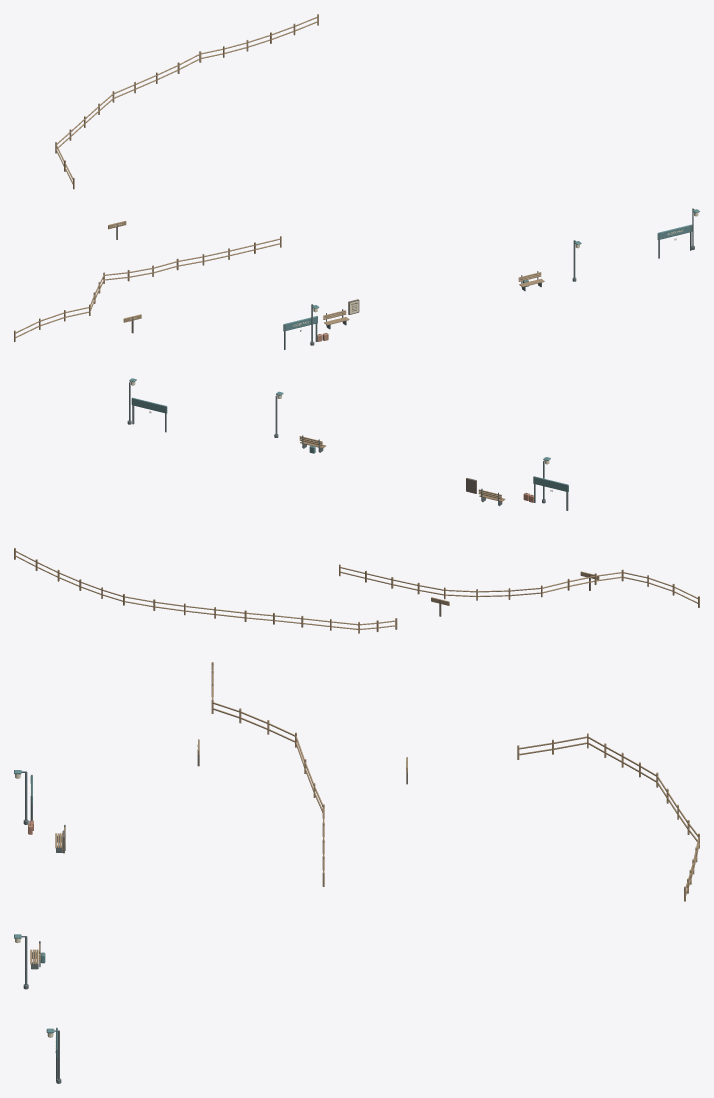
File: Props.fbx
The picture shows the model from 3 angles, top to bottom: view 1: azimuth 30°, elevation 25°; view 2: azimuth 150°, elevation 25°; view 3: azimuth 270°, elevation 25°; orthographic projection. The views are drawn at different scales.
Parts seen in each view (by area): view 1: Props; view 2: Props; view 3: Props.
Boxes of the visible parts, bbox=[...] form: Props: bbox=[14, 14, 699, 349]; Props: bbox=[14, 378, 699, 633]; Props: bbox=[14, 662, 699, 1083].
Size of the model in its own units: 6635 by 4936 by 907.
